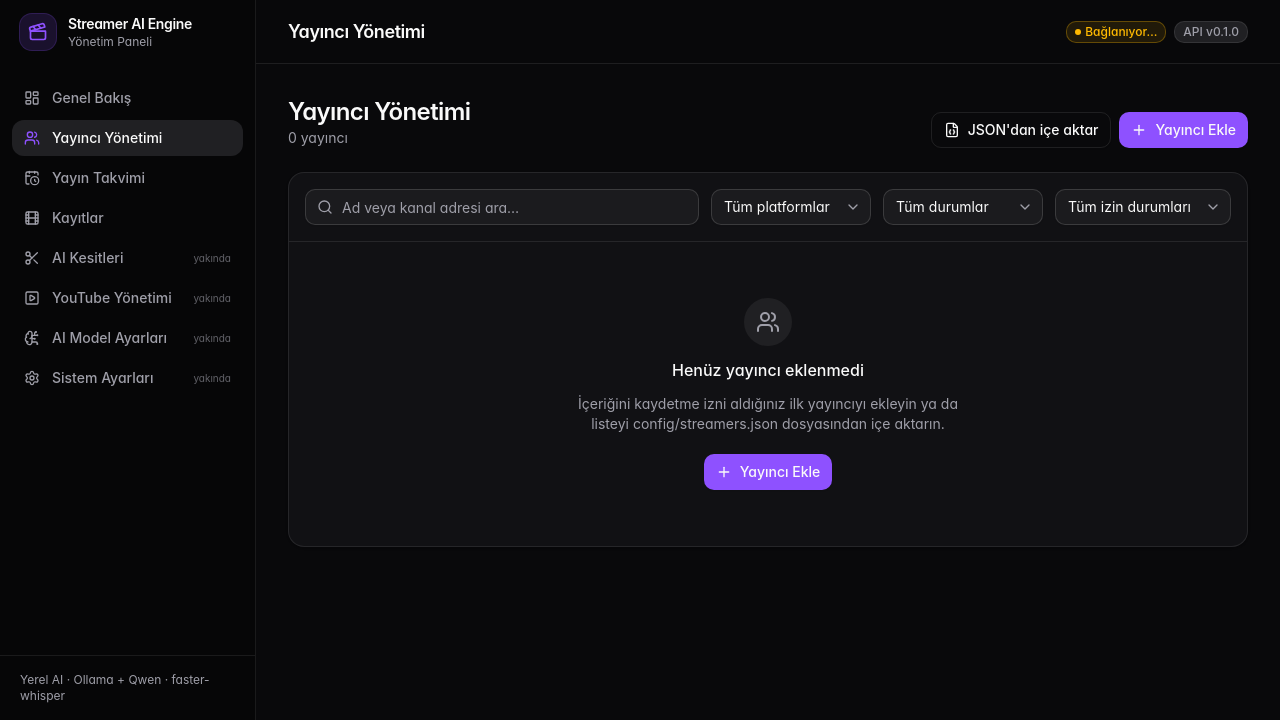
Scenario: StreamersPage › shows the import summary
This screenshot has width=1280, height=720.
Click the button "JSON'dan içe aktar" at coordinates (1021, 130), box [931, 112, 1112, 148]
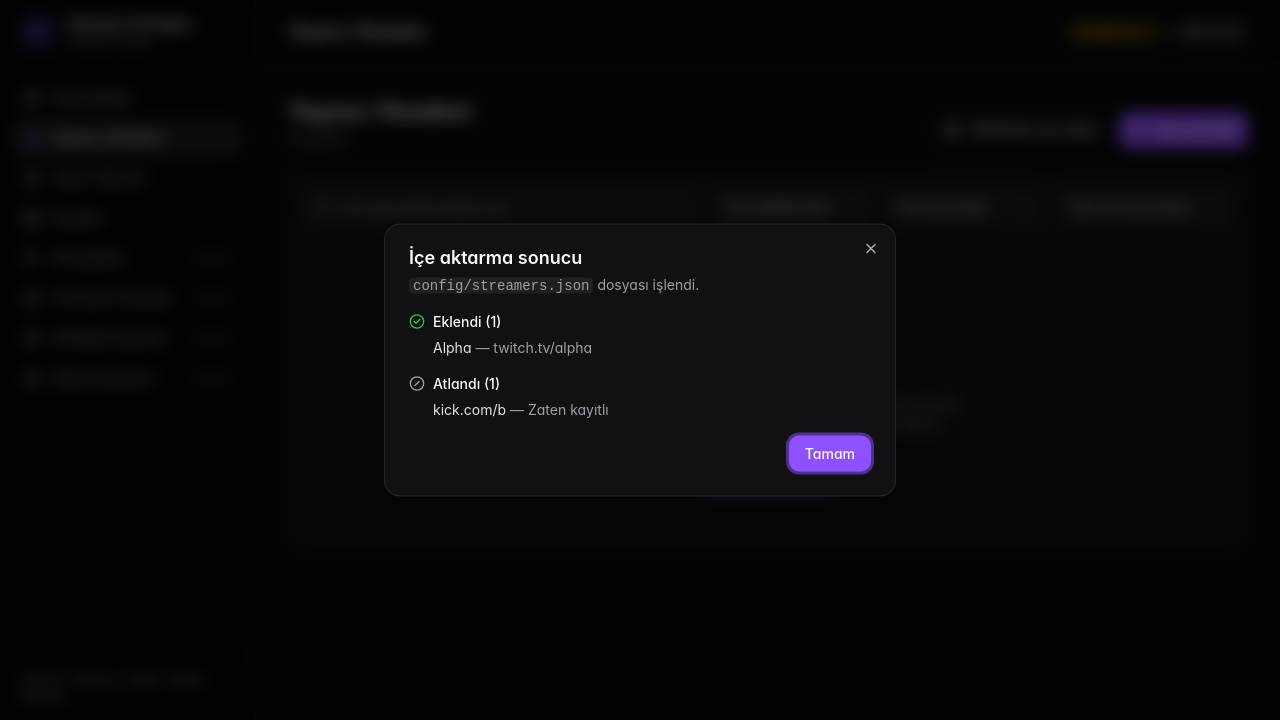
Expected: the text "Eklendi (1)" is shown, [409, 312, 502, 330]
Expected: the text "Atlandı (1)" is shown, [409, 374, 500, 392]
